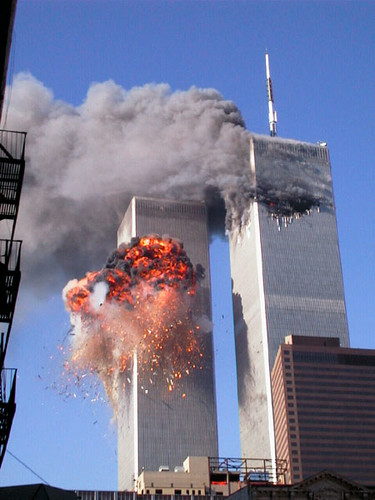building: (216, 126, 352, 500), (77, 180, 218, 485)
sky: (12, 1, 357, 135)
smoke: (10, 76, 245, 248)
